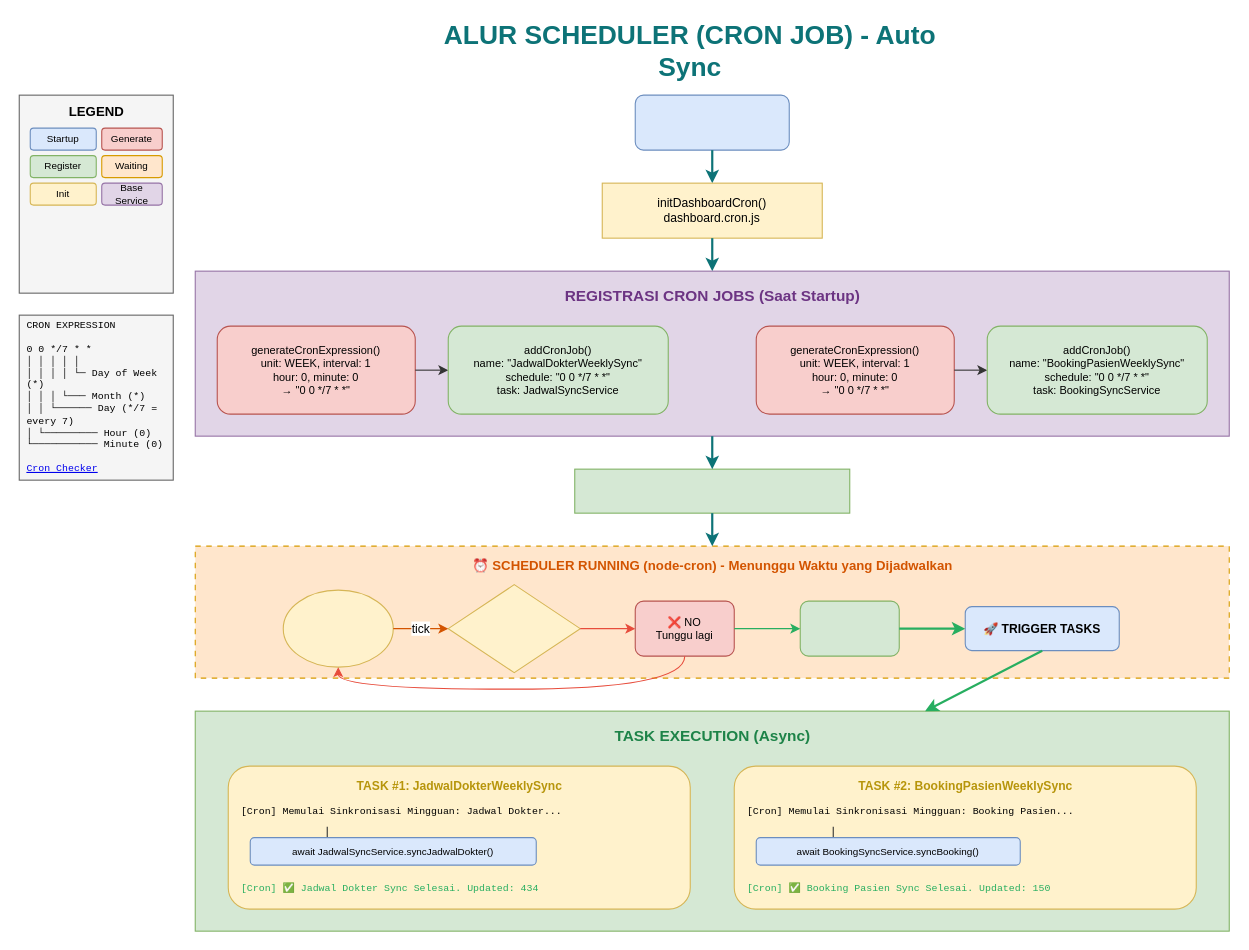
Image size: 1249x950. Some labels were removed from this diagram. The shapes that lost their labels are listed below. From the top down, each one's box as (x1, y1, x2, y2) in pixels, then its label:
(634, 94, 789, 150): 🚀 APP STARTUP app.js
(574, 468, 850, 513): ✅ Dashboard cron jobs initialized (2 jobs registered)
(282, 589, 393, 667): 🕐 Setiap Minggu Jam 00:00
(447, 584, 580, 673): Cek Schedule "0 0 */7 * *" Match?
(799, 600, 899, 656): ✅ YES Execute Task!
